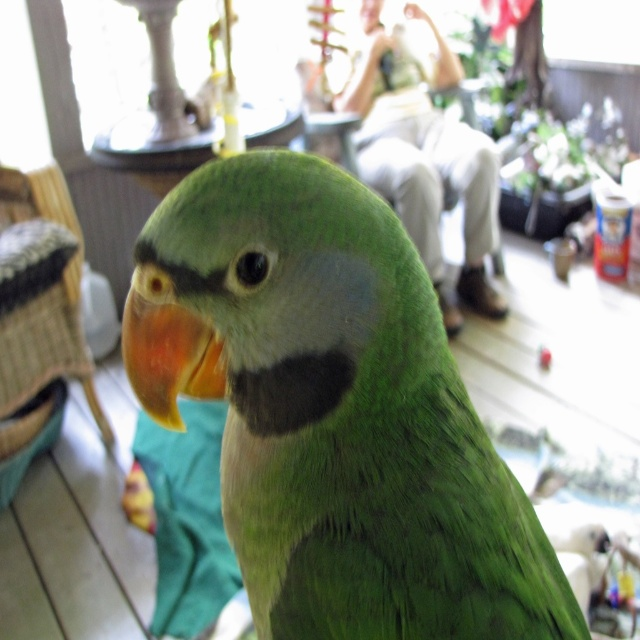Parrot: (119, 149, 593, 639)
